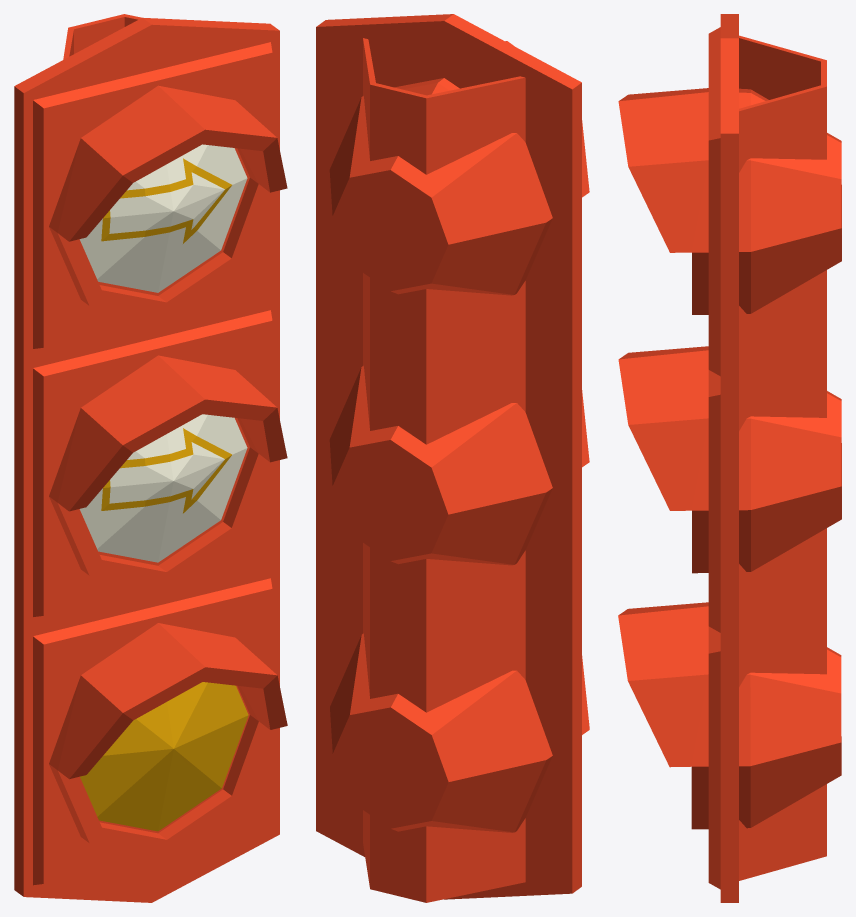
Rendered from SM_Traffic_Light_B_City.fbx.
3 views of the same model, side by side, from view 1: azimuth 30°, elevation 25°; view 2: azimuth 150°, elevation 25°; view 3: azimuth 270°, elevation 25° (orthographic). The views are drawn at different scales.
Visible parts, largest first — view 1: SM_Traffic_Light_B_City; view 2: SM_Traffic_Light_B_City; view 3: SM_Traffic_Light_B_City.
Part boxes in pixels (x1=…): SM_Traffic_Light_B_City: x1=14, y1=14, x2=287, y2=902; SM_Traffic_Light_B_City: x1=316, y1=14, x2=589, y2=902; SM_Traffic_Light_B_City: x1=618, y1=14, x2=841, y2=902.
Bounding box in the file's own units: 0.3467 × 1.14 × 0.2741.
